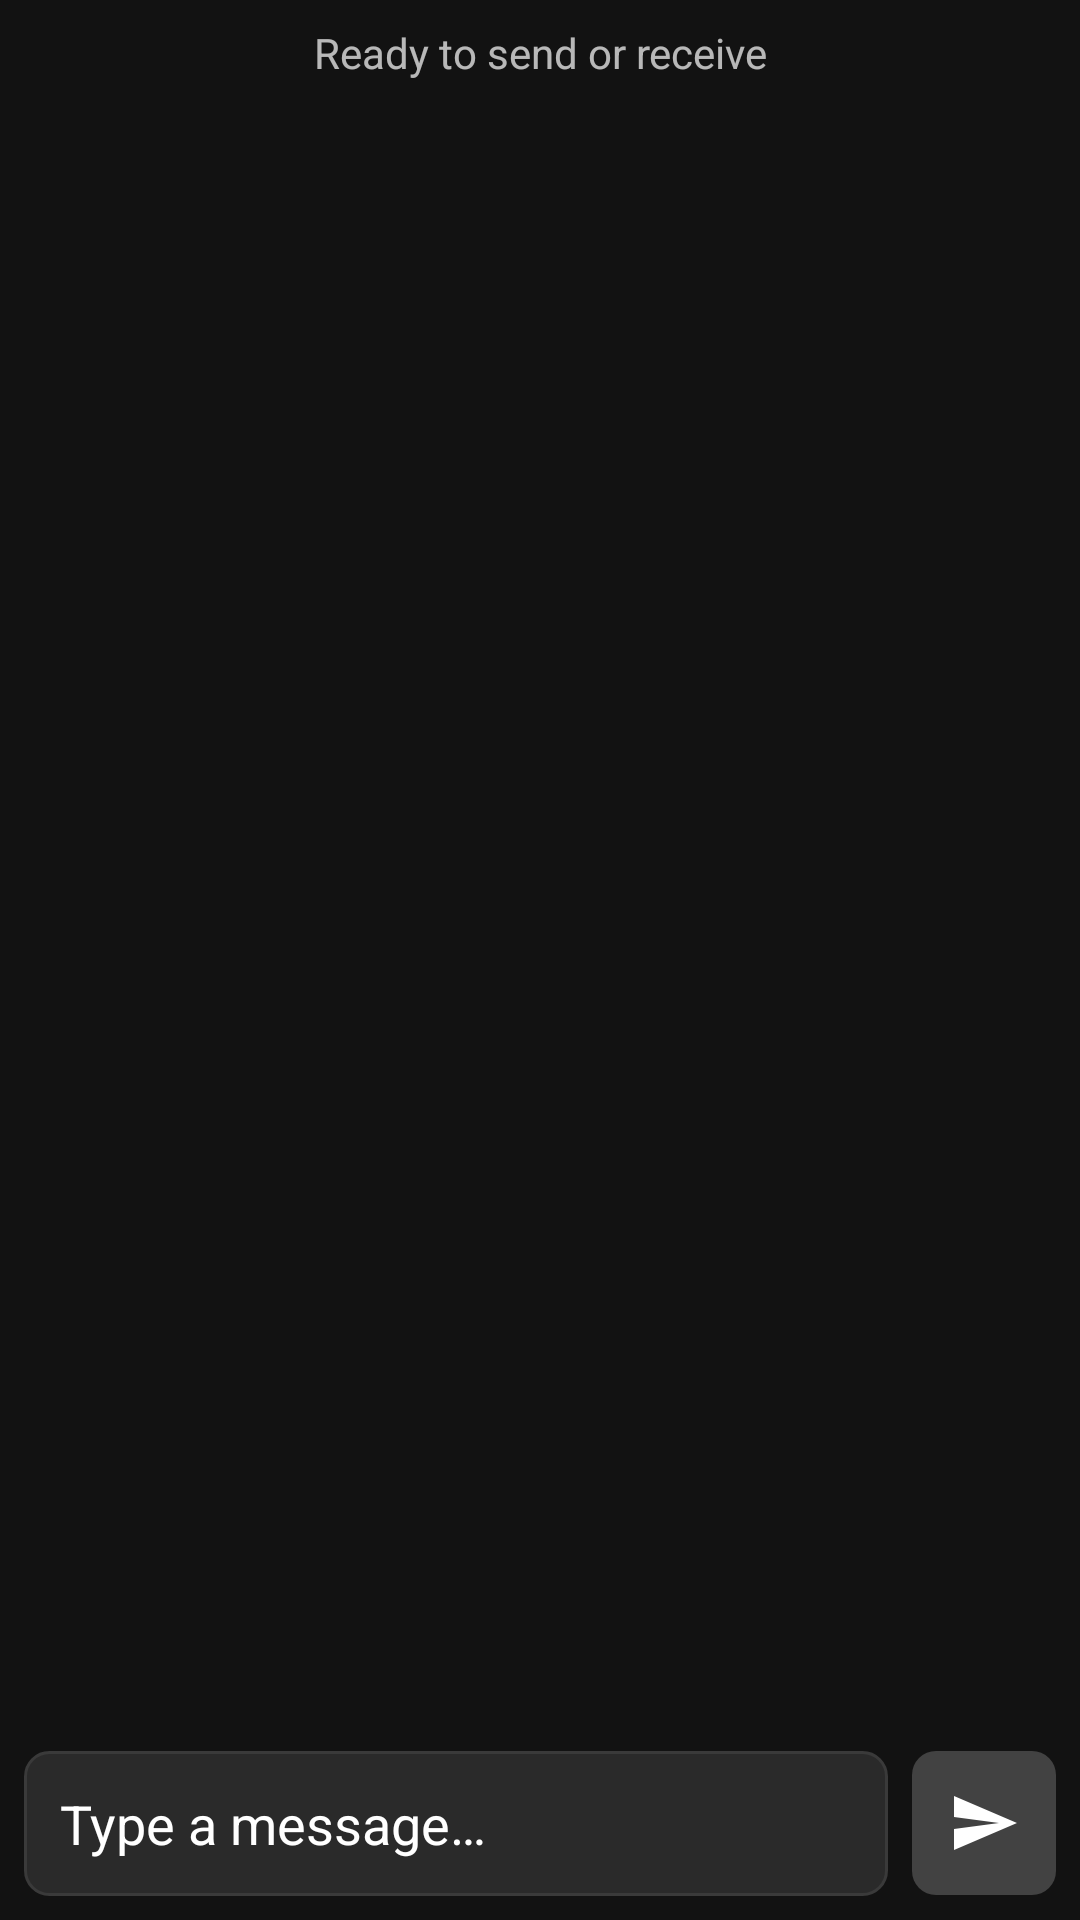

Where icons sit on this 1080px×1920px app screen, as (x1, y1, x2, y2):
Send icon: (954, 1796, 1017, 1850)
